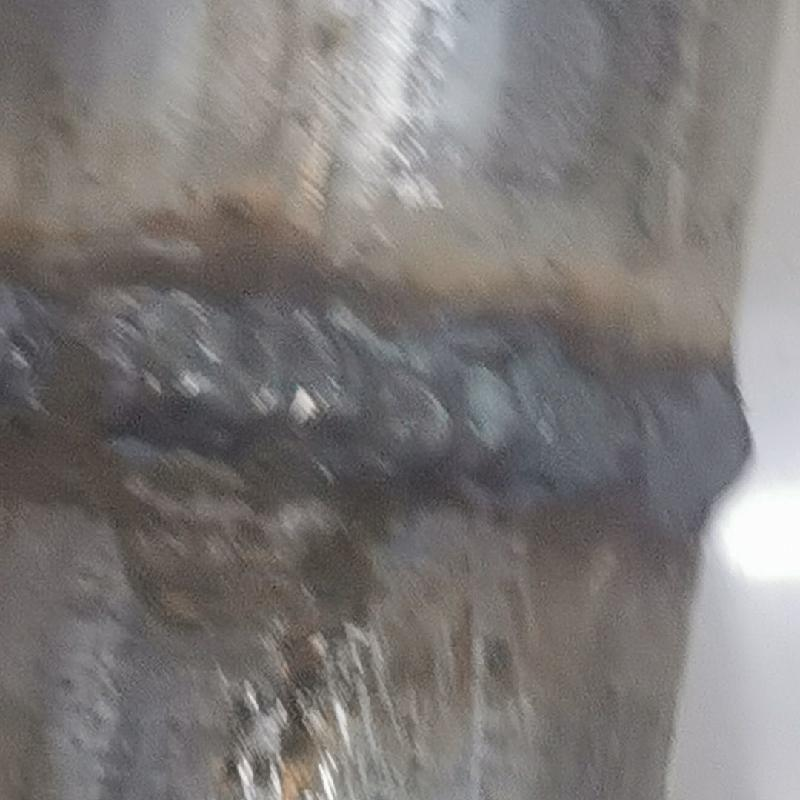good: (0, 248, 762, 531)
